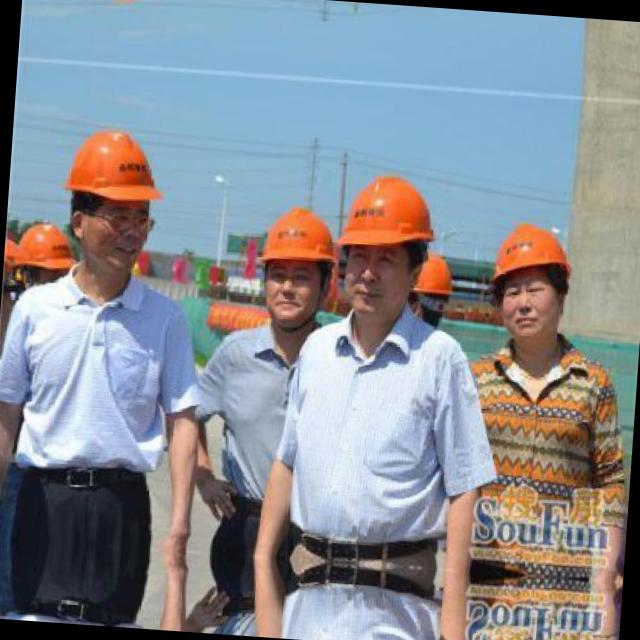helmet: (58, 119, 164, 274), (341, 167, 436, 322), (488, 212, 577, 348), (249, 200, 333, 334), (7, 218, 77, 298), (408, 255, 454, 335)
